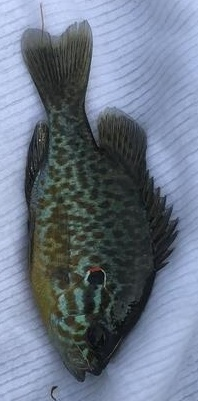Lepomis gibbosus: (20, 20, 178, 381)
